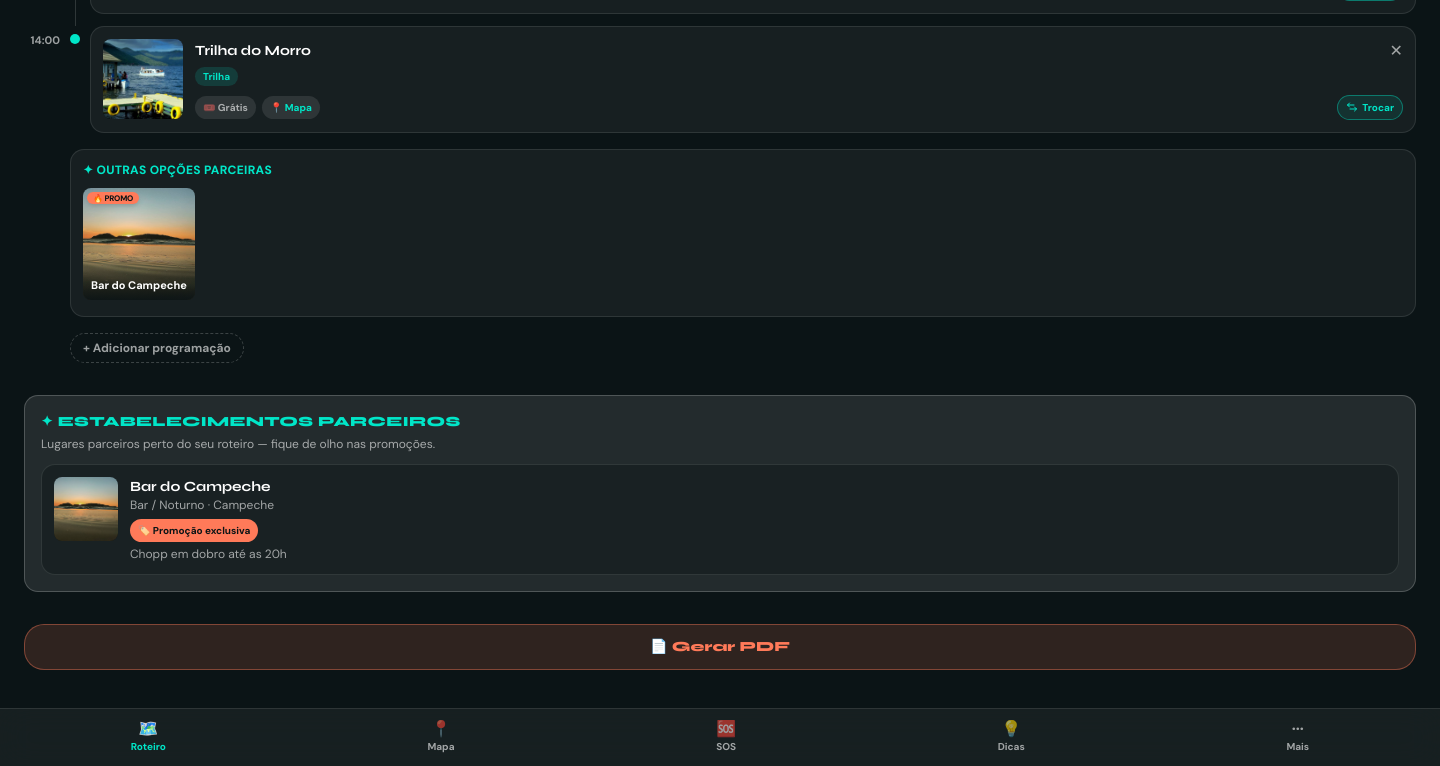
Test: RoteiroView › opens the establishment modal with full details when a partner card is clicked
(page scrolled)
What coordinates should you click on to do the following:
click the button "Bar do Campeche"
I would click on:
 (720, 519)
Its box is [41,464,1399,574].
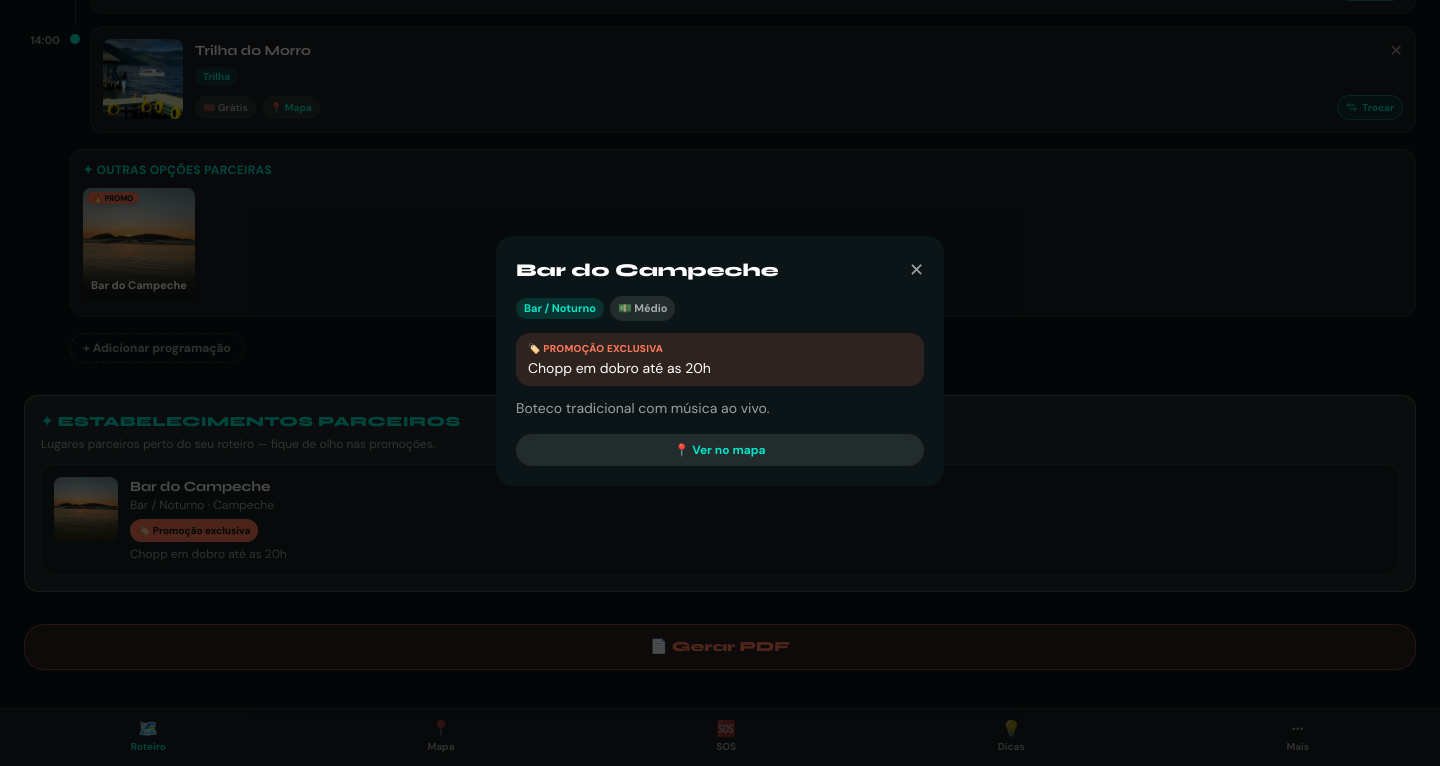
Expected: the text "Boteco tradicional com música ao vivo." is shown, [516,399,770,417]
Expected: the text "Chopp em dobro até as 20h" is shown, [528,359,711,377]
